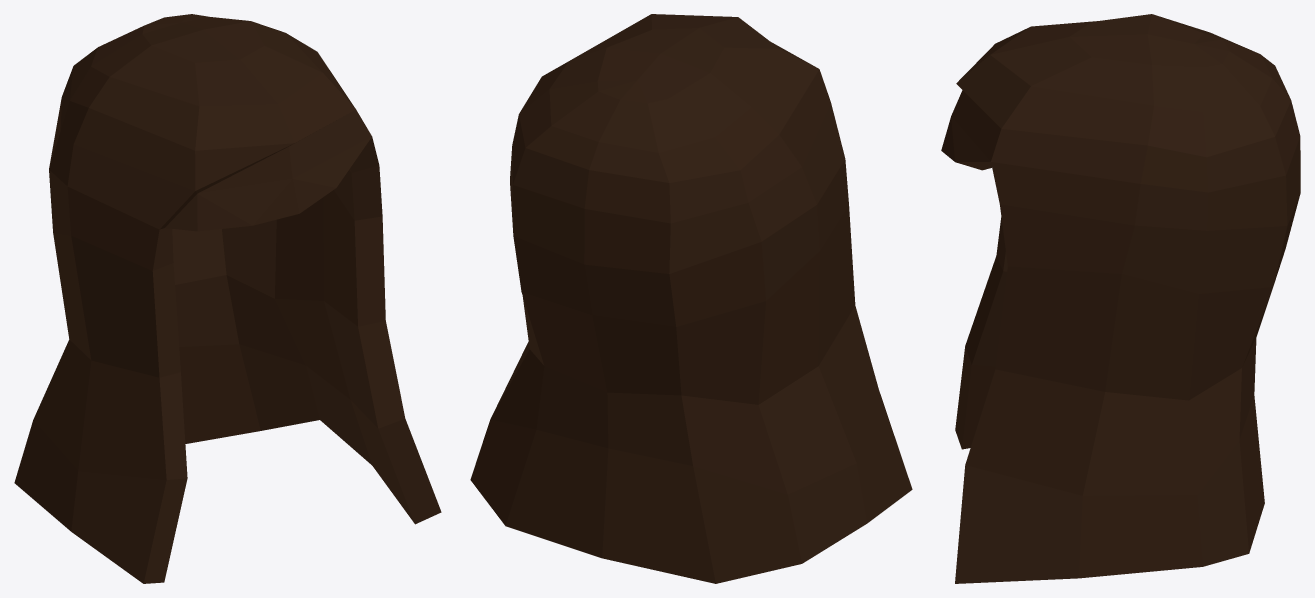
The model's file is female_hairstyle_2.glb.
3 views of the same model, side by side, from view 1: azimuth 30°, elevation 25°; view 2: azimuth 150°, elevation 25°; view 3: azimuth 270°, elevation 25° (orthographic). The views are drawn at different scales.
Parts seen in each view (by area): view 1: Female_Hairstyle_2; view 2: Female_Hairstyle_2; view 3: Female_Hairstyle_2.
Boxes of the visible parts, x1,y1,x2,y2 form: Female_Hairstyle_2: (14,14,441,583); Female_Hairstyle_2: (470,14,912,583); Female_Hairstyle_2: (941,14,1300,583).
Size of the model in its own units: 1.38 by 1.85 by 1.25.
